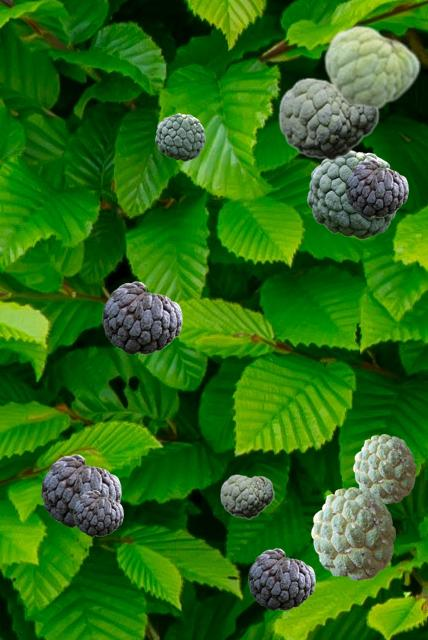atis: (278, 77, 378, 160), (323, 24, 419, 109), (307, 150, 396, 238), (311, 487, 394, 579), (41, 454, 120, 526), (102, 281, 181, 353), (353, 434, 415, 502), (248, 548, 314, 609), (345, 159, 407, 216), (220, 474, 273, 518), (155, 113, 204, 160), (73, 490, 122, 535)
